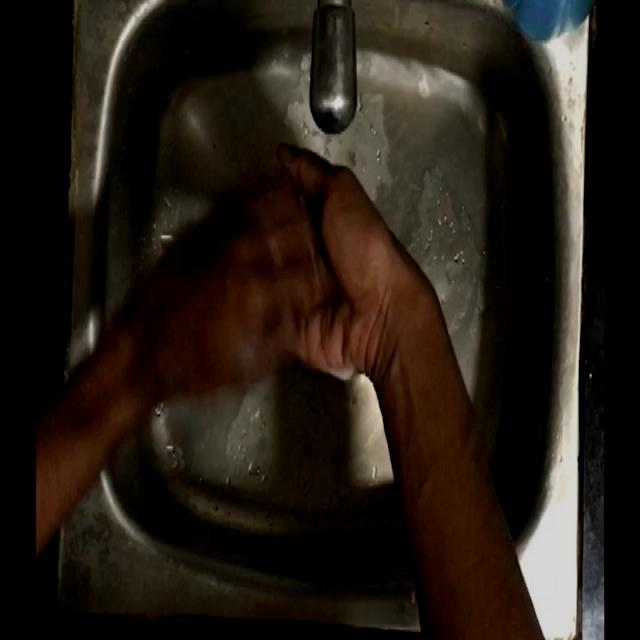step_4: (150, 125, 403, 393)
